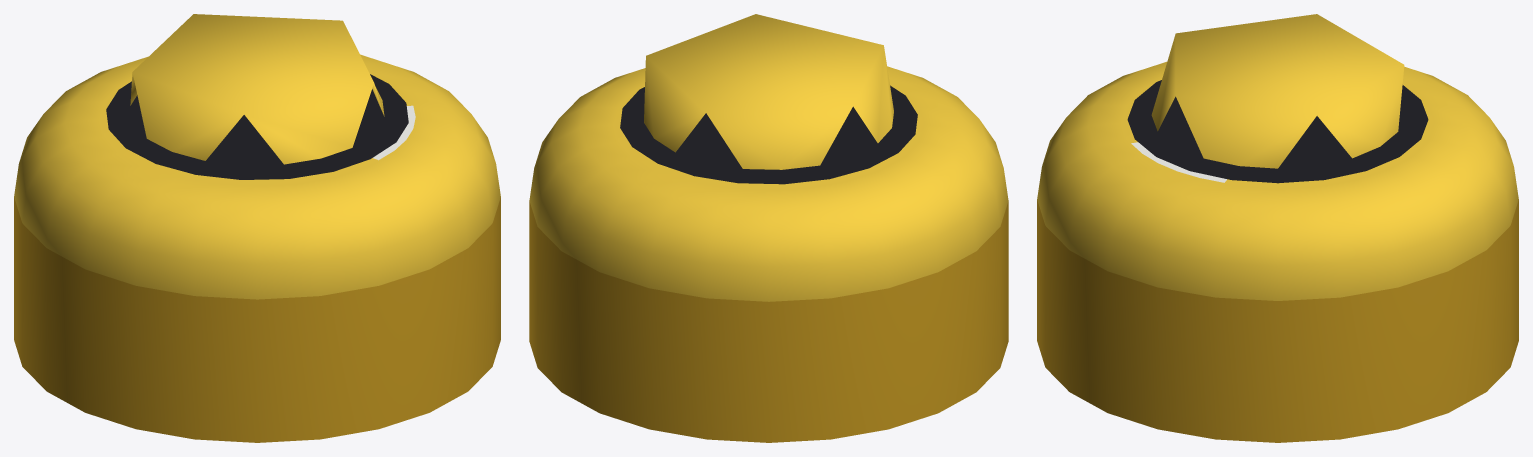
The model's file is BotonMotor.fbx.
3 renders of one model, left to right at view 1: azimuth 30°, elevation 25°; view 2: azimuth 150°, elevation 25°; view 3: azimuth 270°, elevation 25°, orthographic.
Parts seen in each view (by area): view 1: BotonMotor; view 2: BotonMotor; view 3: BotonMotor.
Part boxes in pixels (x1=…): BotonMotor: x1=14, y1=14, x2=500, y2=442; BotonMotor: x1=529, y1=14, x2=1008, y2=442; BotonMotor: x1=1037, y1=14, x2=1518, y2=442.
Size of the model in its own units: 0.4 by 0.2532 by 0.4.
1 material, 1 textured.
